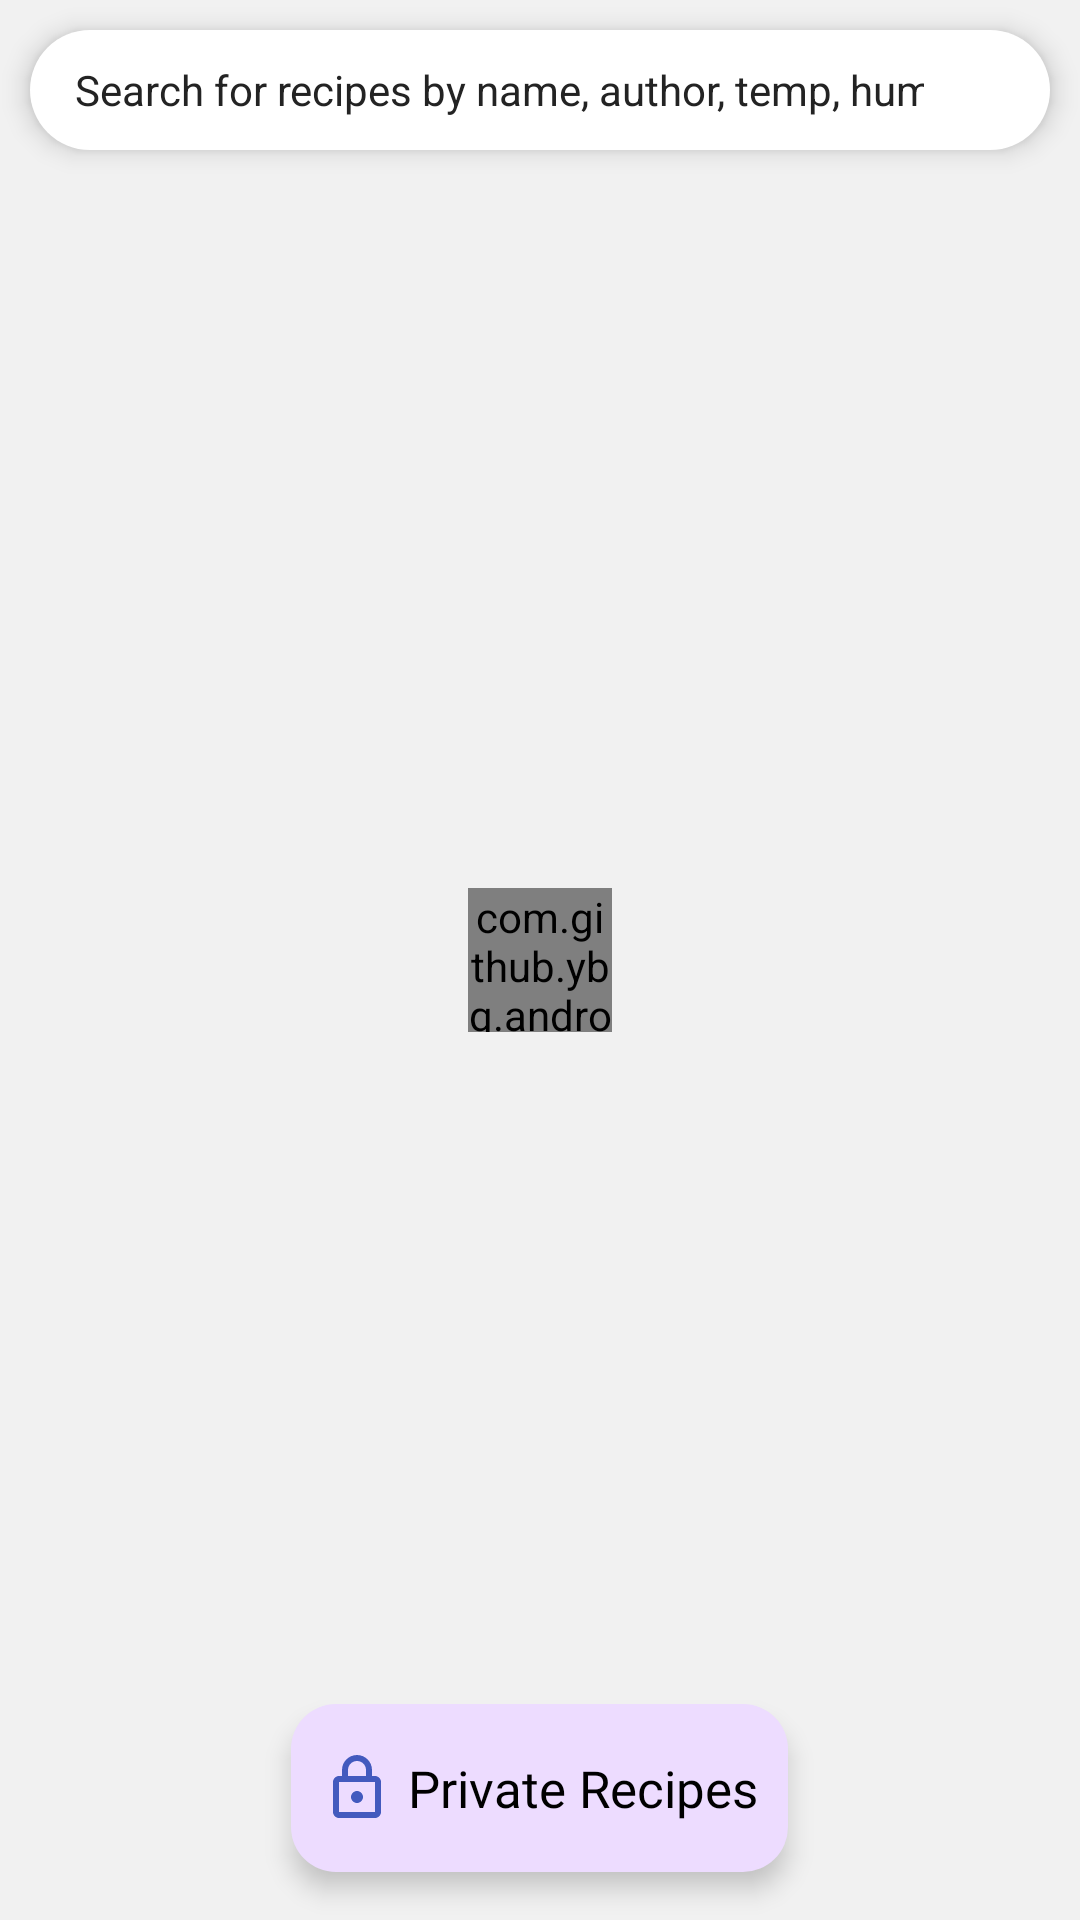

Icon click points for this 1080 × 1920 phone screenshot, format point (x, y):
lock: point (357, 1786)
